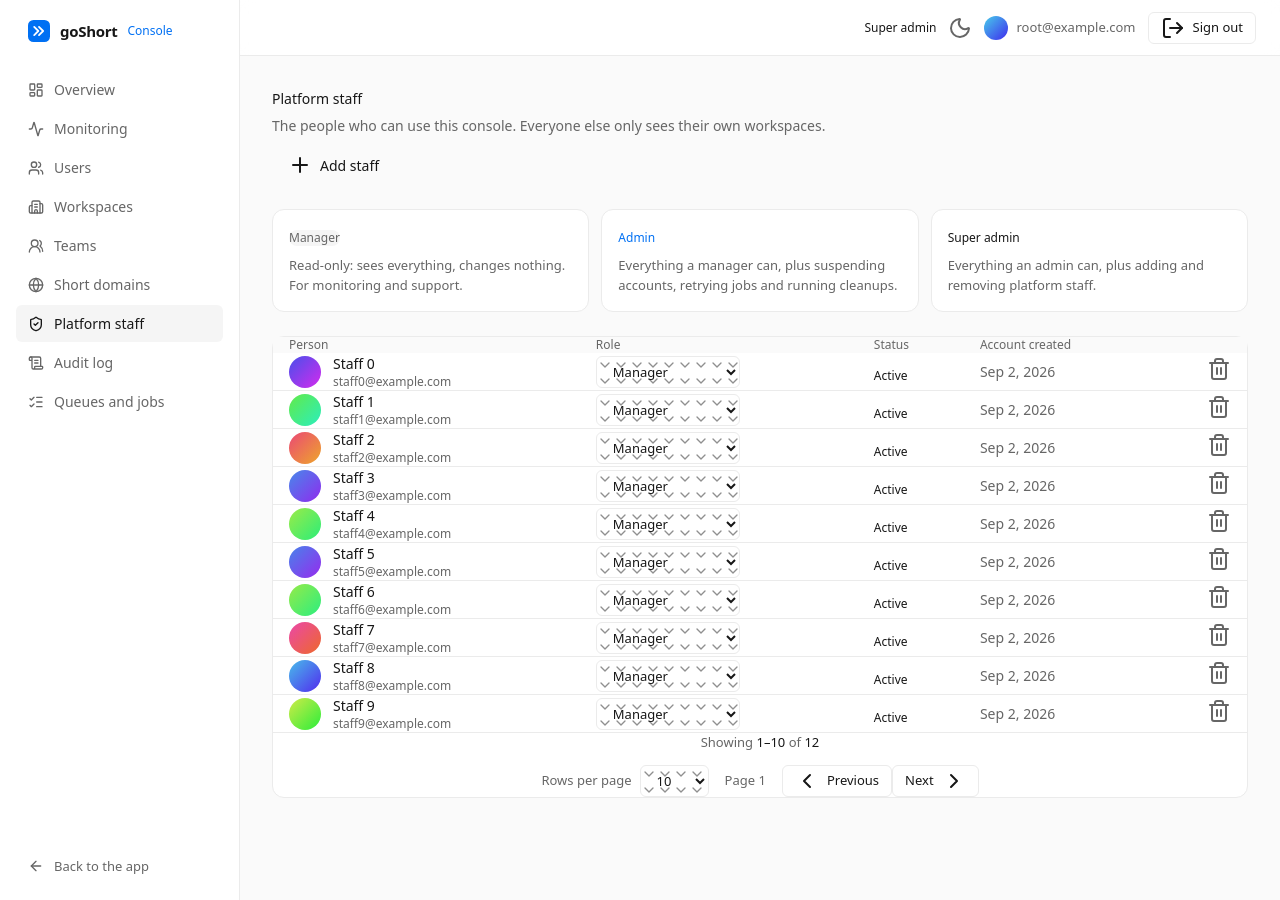
Scenario: users › paginates the in-memory tables too (platform staff, failed jobs)
Expected: the text "Staff 0" is shown, [333,354,375,373]
Expected: the text "Staff 10" is not shown
Click the button with aria-label "Next page".
click(935, 780)  # box [892,764,979,796]
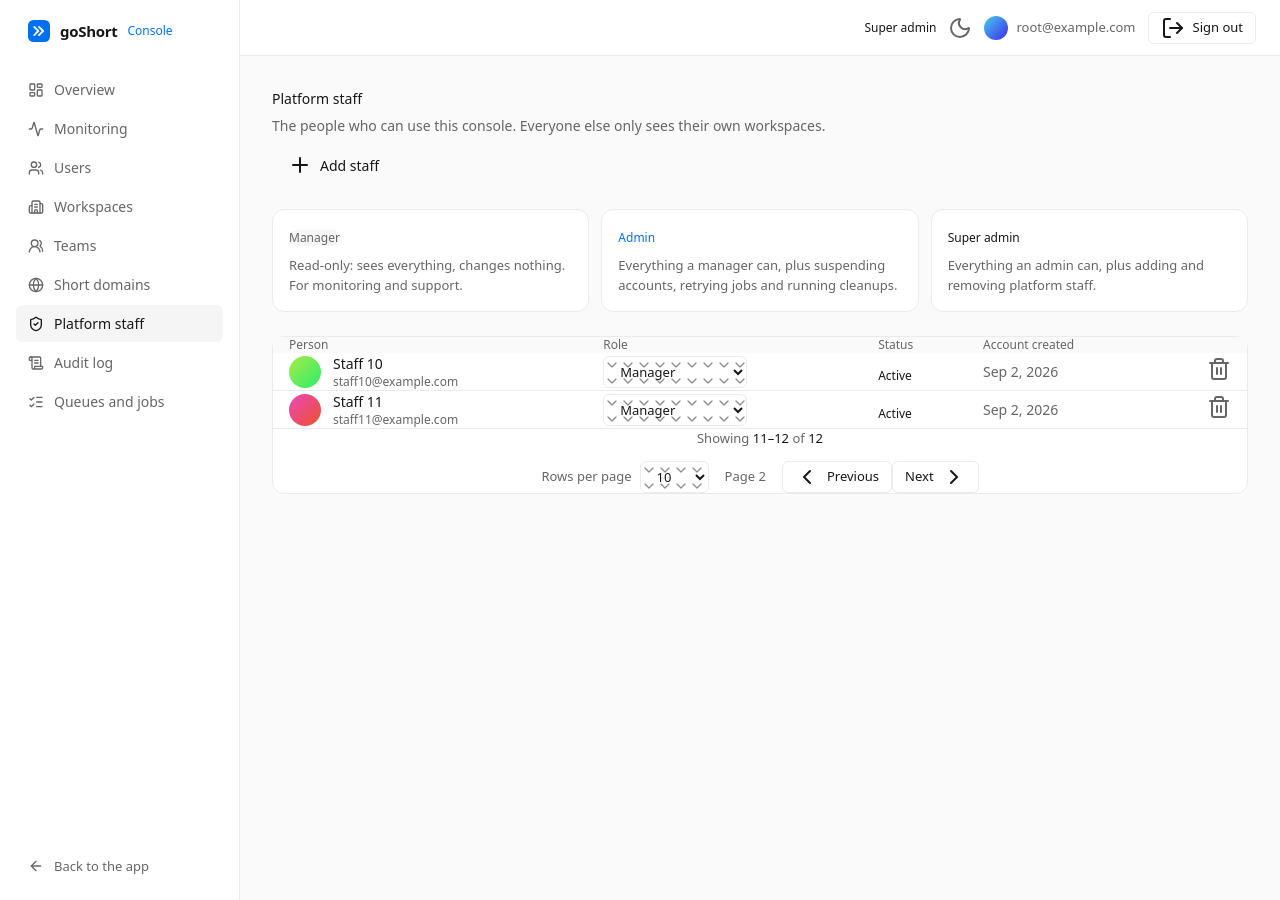
Result: the text "Staff 10" is shown at [333,354,383,373]
Result: the text "Showing 11–12 of 12" is shown at [697,429,823,448]
